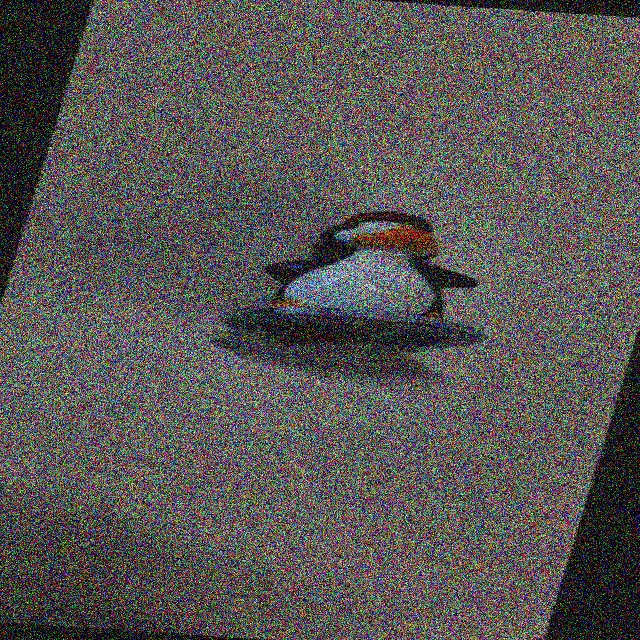Penguin: (228, 200, 514, 356)
